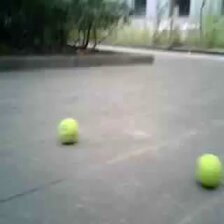tennis: (193, 153, 222, 187), (60, 118, 77, 144)
